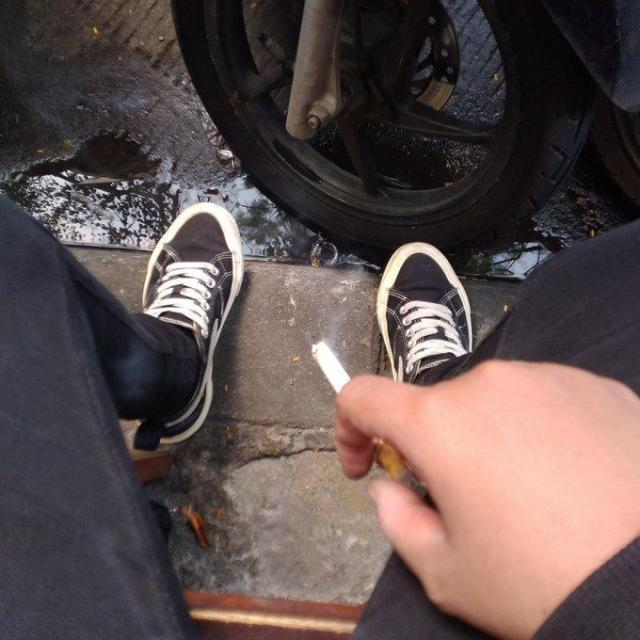rokok: (307, 332, 417, 490)
